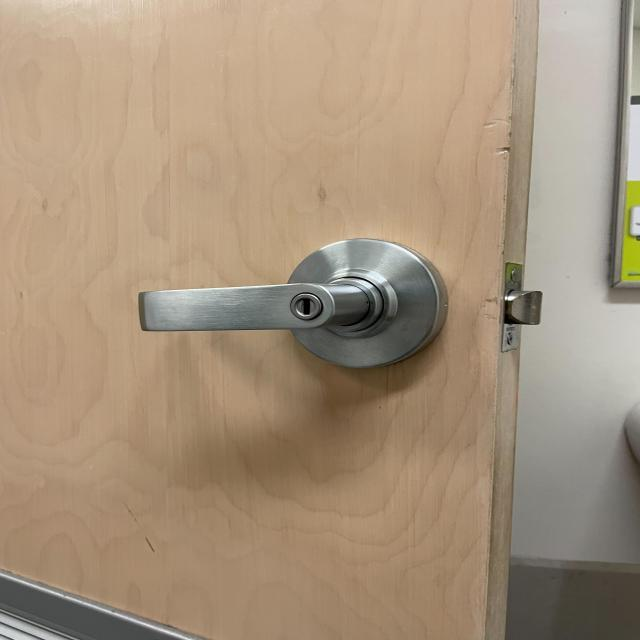door-handle: (138, 239, 448, 368)
